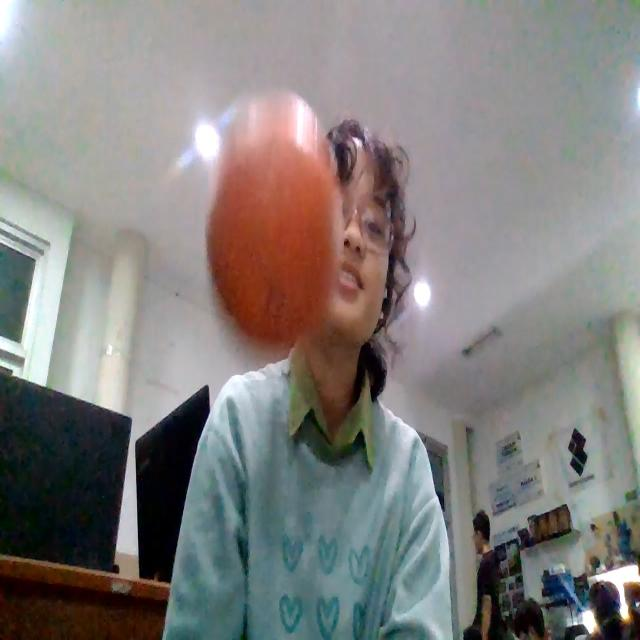ball: (205, 89, 332, 346)
